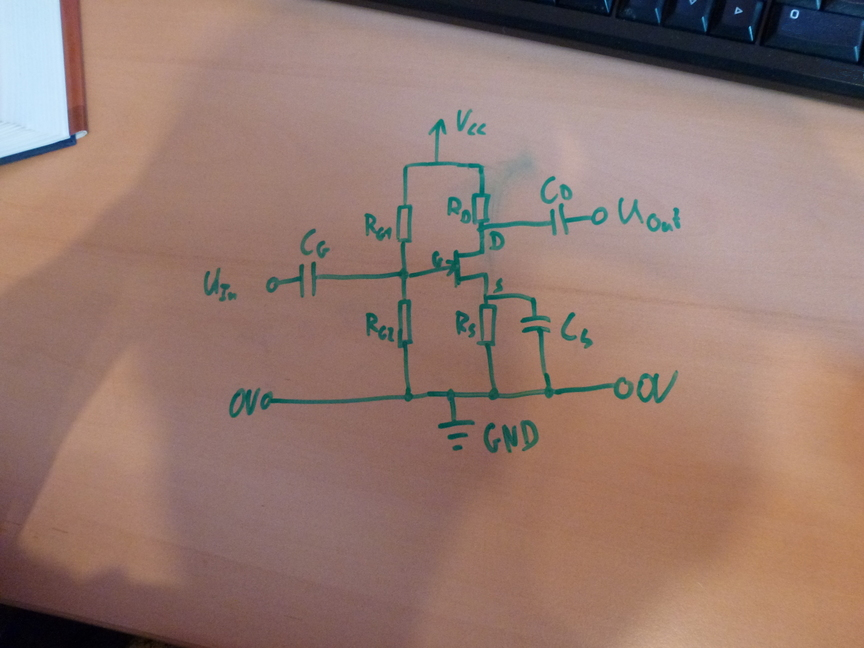capacitor.unpolarized: (296, 261, 322, 299), (519, 313, 554, 337), (548, 203, 572, 237)
gnd: (436, 418, 476, 452)
junction: (397, 267, 412, 282), (487, 387, 501, 402), (543, 385, 556, 400), (445, 387, 457, 403), (403, 390, 414, 404), (475, 223, 487, 234), (432, 158, 442, 168), (529, 294, 538, 305), (476, 162, 486, 171), (481, 293, 490, 301), (402, 162, 410, 170)
resistor: (396, 296, 415, 349), (477, 302, 498, 348), (394, 202, 414, 245), (470, 191, 491, 223)
terminal: (612, 375, 634, 401), (589, 205, 609, 227), (265, 275, 281, 294), (260, 391, 274, 412)
text: (617, 196, 682, 234), (482, 419, 540, 454), (635, 369, 679, 404), (560, 311, 595, 350), (203, 266, 238, 303), (298, 227, 331, 260), (364, 311, 396, 343), (228, 387, 261, 418), (454, 108, 488, 137), (539, 175, 573, 204), (363, 211, 393, 242), (446, 195, 472, 225), (454, 309, 477, 339), (489, 230, 505, 251), (430, 249, 444, 268), (492, 277, 504, 293)
transistor: (445, 249, 491, 288)
vss: (428, 118, 448, 136)
